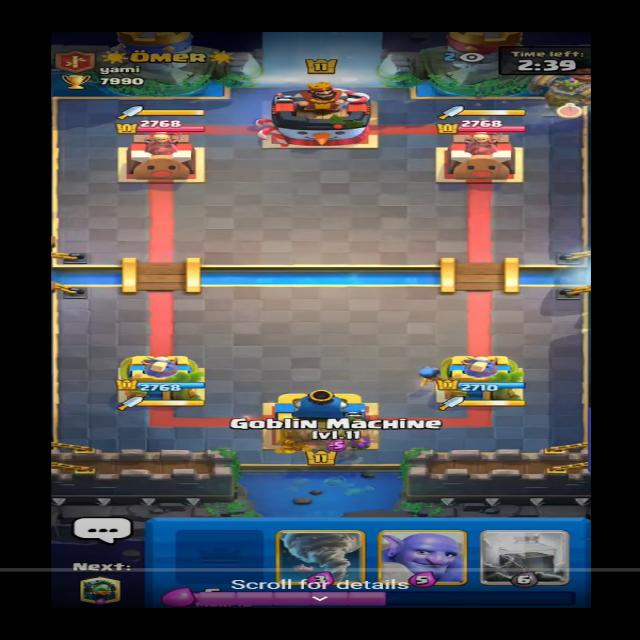goblin-machine: (531, 63, 601, 113)
